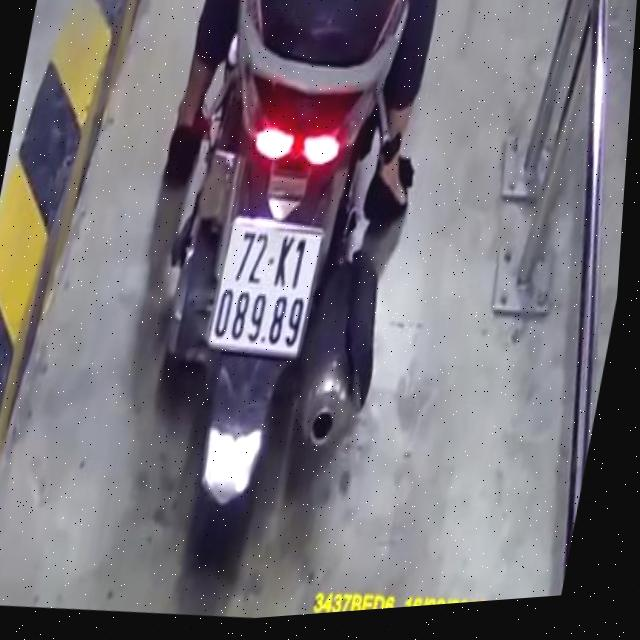motorcycle: (110, 0, 454, 596)
plate: (200, 204, 331, 367)
